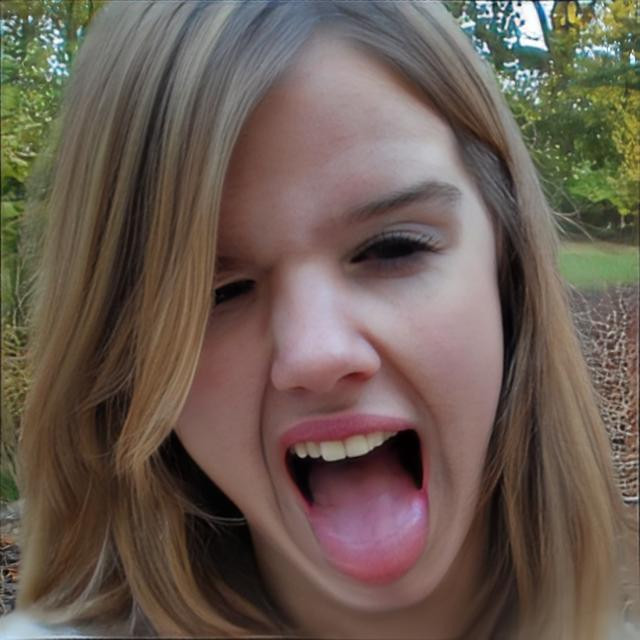anger: (172, 21, 508, 609)
